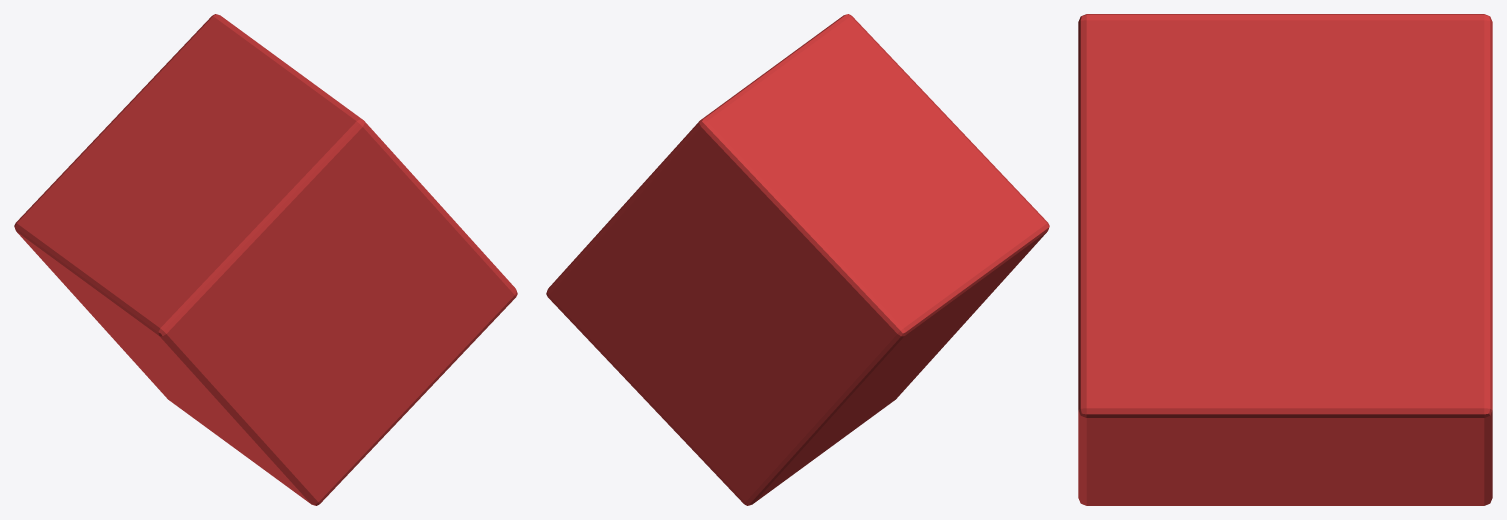
File: cube_red.glb
3 renders of one model, left to right at view 1: azimuth 30°, elevation 25°; view 2: azimuth 150°, elevation 25°; view 3: azimuth 270°, elevation 25°, orthographic. The views are drawn at different scales.
Visible parts, largest first — view 1: cube_red; view 2: cube_red; view 3: cube_red.
Part boxes in pixels (x1,y1,x2,y2): cube_red: [14, 14, 517, 505]; cube_red: [546, 14, 1049, 505]; cube_red: [1078, 14, 1492, 505].
Bounding box in the file's own units: 0.5546 × 0.5546 × 0.4.
